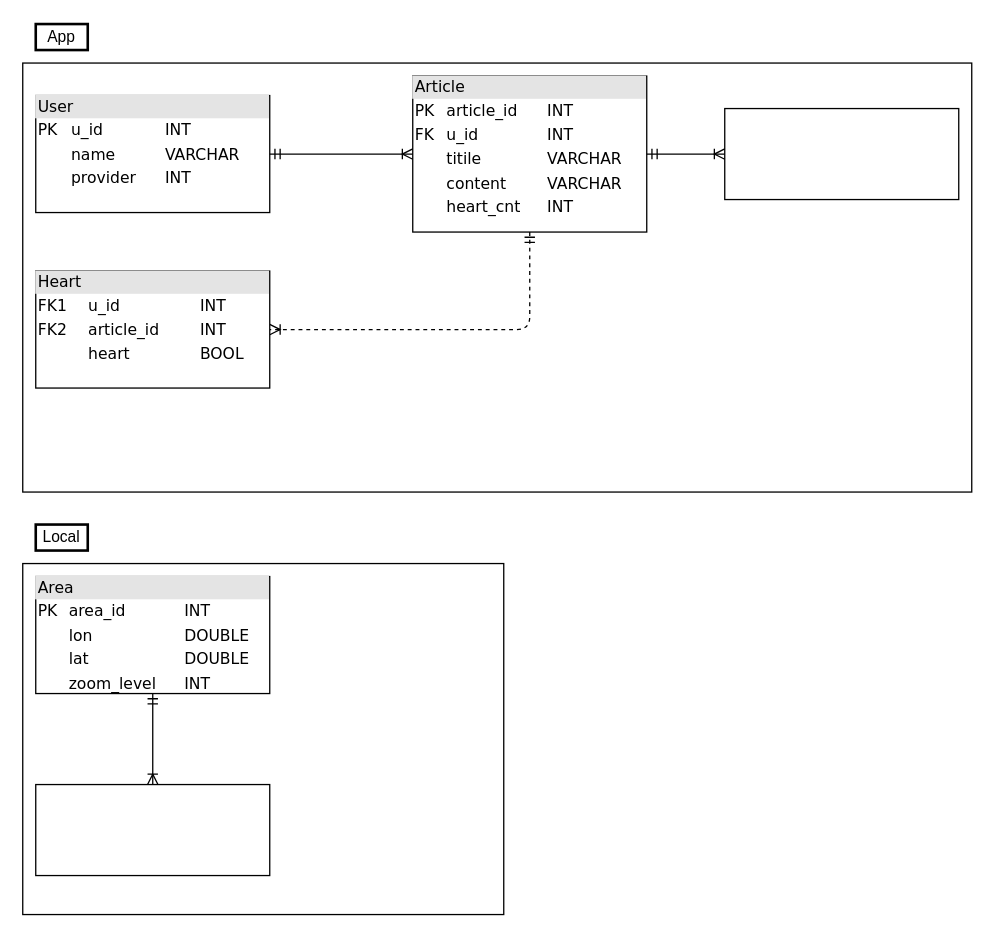
This 994x937 diagram has some shape labels left out. The shapes that lost their labels are listed below. From the top down, each one's centre as x and y in pixels, then its label:
(841,153): Picture FK article_id INT picture_addr VARCHAR
(152,829): Gist FK area_id lat lon
